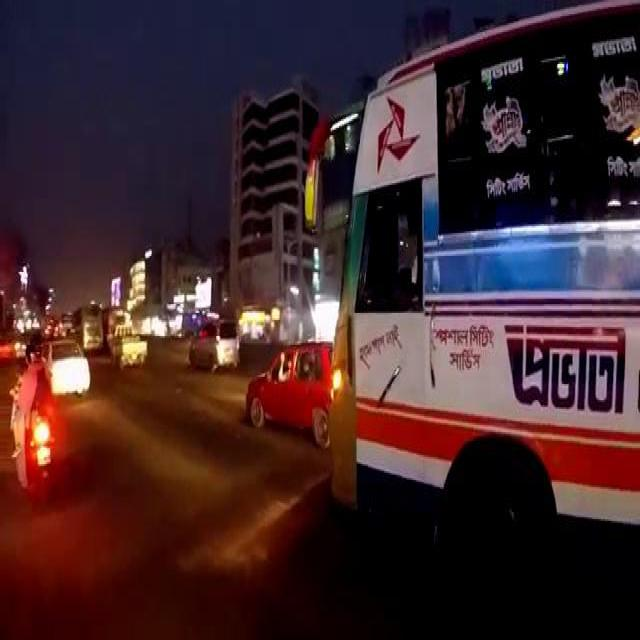bus: (323, 0, 639, 571), (71, 300, 102, 346)
car: (244, 336, 330, 437), (41, 334, 89, 393)
motorcycle: (23, 404, 56, 506)
truck: (187, 315, 239, 366), (107, 318, 146, 363)
